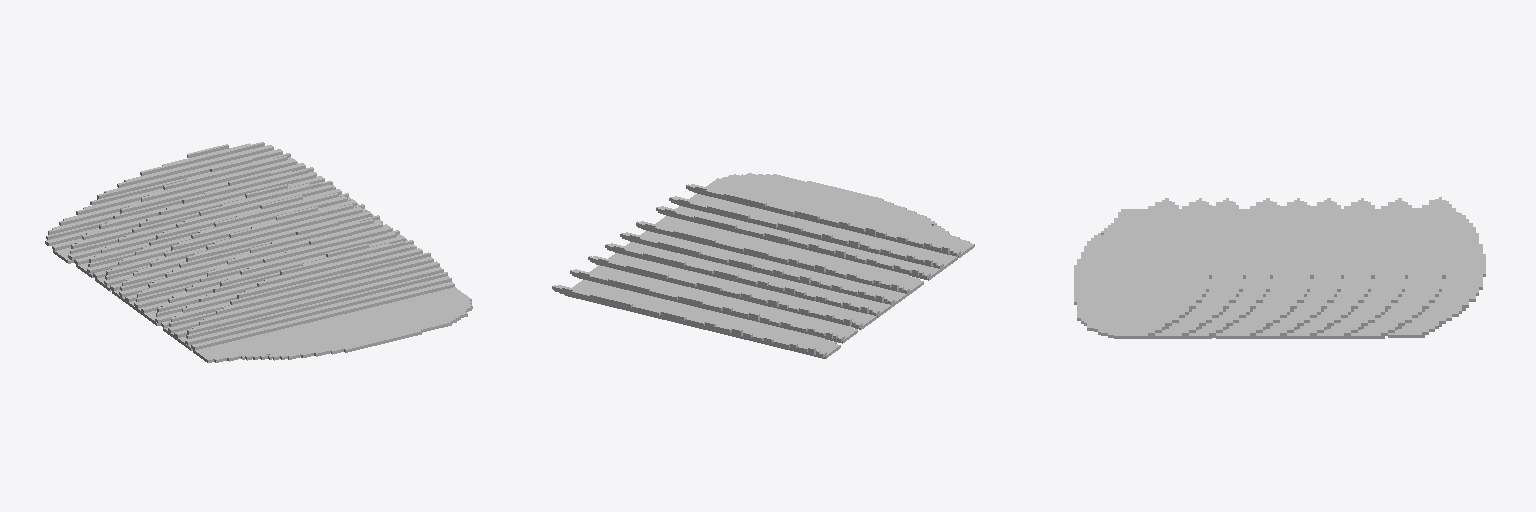
File: LechugaCortada.obj
3 views of the same model, side by side, from view 1: azimuth 30°, elevation 25°; view 2: azimuth 150°, elevation 25°; view 3: azimuth 270°, elevation 25° (orthographic).
Visible parts, largest first — view 1: object 1; view 2: object 1; view 3: object 1.
Boxes of the visible parts, x1=… form: object 1: x1=45, y1=142, x2=472, y2=362; object 1: x1=552, y1=173, x2=974, y2=358; object 1: x1=1074, y1=197, x2=1485, y2=338.
Bounding box in the file's own units: 9.1 × 1.2 × 12.2.